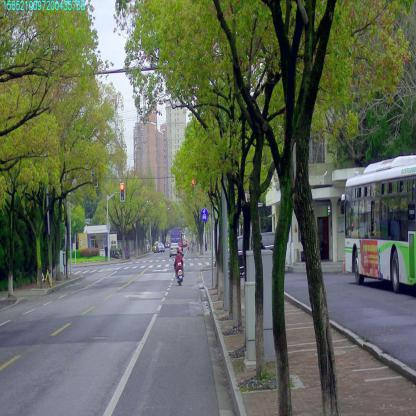traffic-light: (120, 183, 124, 201), (191, 179, 195, 196)
